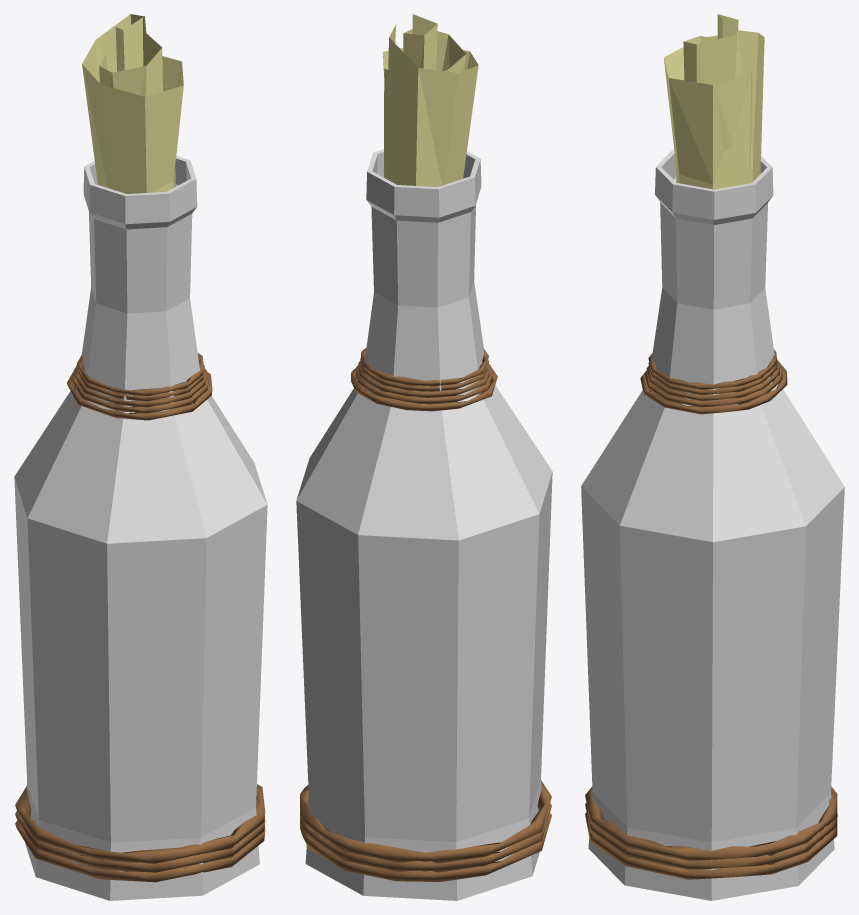
Rendered from flasa_quest.fbx.
3 views of the same model, side by side, from view 1: azimuth 30°, elevation 25°; view 2: azimuth 150°, elevation 25°; view 3: azimuth 270°, elevation 25° (orthographic).
Visible parts, largest first — view 1: Flasa; view 2: Flasa; view 3: Flasa.
Boxes of the visible parts, left/top/right/bottom form: Flasa: left=14, top=14, right=267, bottom=900; Flasa: left=296, top=14, right=552, bottom=900; Flasa: left=581, top=14, right=844, bottom=900.
Size of the model in its own units: 0.2214 by 0.7724 by 0.2214.
